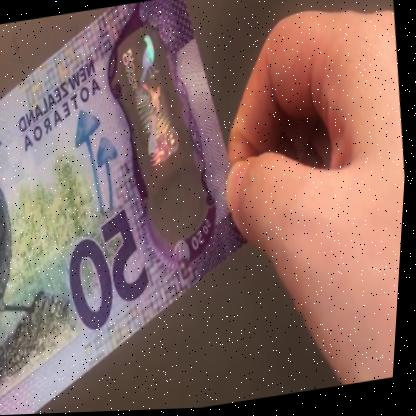50B: (109, 26, 208, 246)
